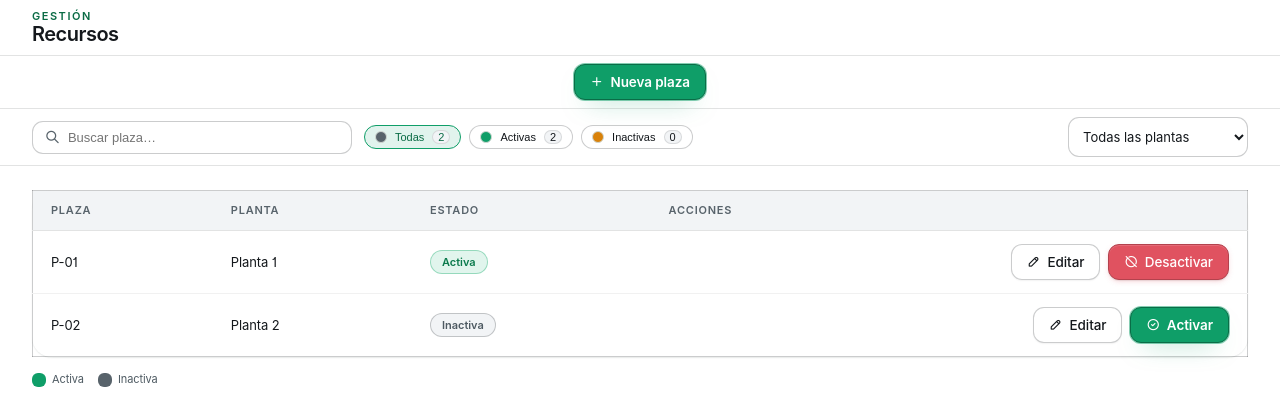
Test case: ParkingSpacesPage › should_filter_visible_rows_when_typing_in_search_box
Expected: the text "P-01" is shown, top-left (32, 230), bottom-right (213, 294)
Type "P-02" into the search field at (203, 137), box top-left (68, 122), bottom-right (339, 152)
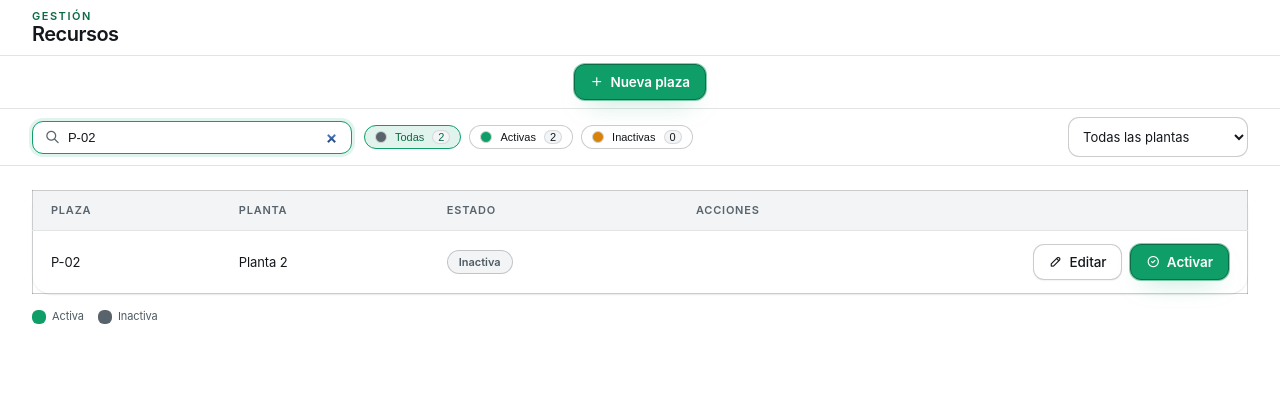
Expected: the text "P-02" is shown, top-left (32, 230), bottom-right (221, 294)
Now the text "P-01" is gone
